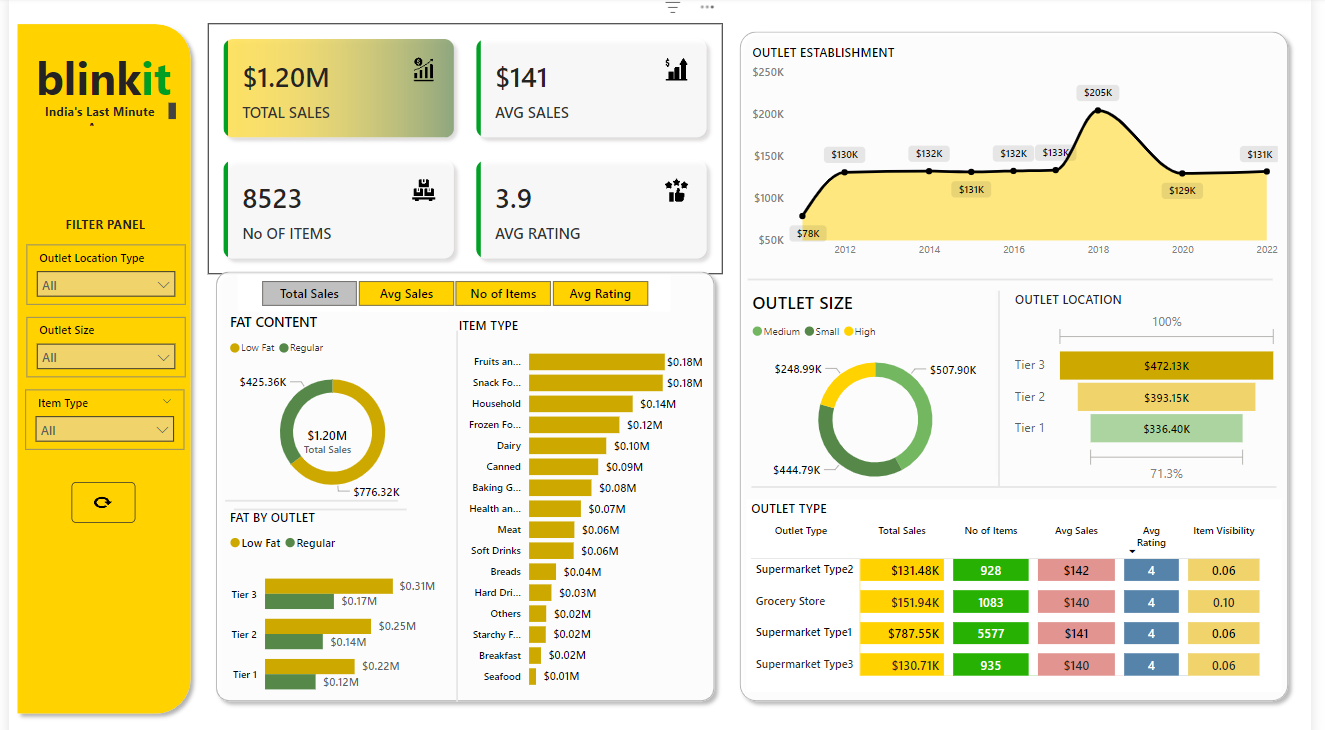

What the dashboard file says about the page in this screenshot:
{"tool":"powerbi","page":{"name":"Page 1","canvas":[1400,800],"ordinal":0},"visuals":[{"type":"shape","box":[0,20.2,204.4,759.9],"z":0},{"type":"textbox","box":[18.8,48.4,165.4,78],"z":1000},{"type":"textbox","box":[18.8,108.9,165.4,35],"z":2000},{"type":"cardVisual","fields":{"Data":["BlinkIT Grocery Data.Total Sales","BlinkIT Grocery Data.Avg Sales","BlinkIT Grocery Data.No of Items","BlinkIT Grocery Data.Avg Rating"]},"box":[213.9,28.2,554.1,270.3],"z":3000},{"type":"shape","box":[213.9,286.5,554.1,480.2],"z":4000},{"type":"donutChart","title":"FAT CONTENT","fields":{"Y":["BlinkIT Grocery Data.Total Sales"],"Category":["BlinkIT Grocery Data.Item Fat Content"]},"box":[232.7,338.9,231.3,211.2],"z":5000},{"type":"slicer","fields":{"Values":["Metrics.Metrics"]},"box":[246.1,298.6,465.4,40.3],"z":6000},{"type":"cardVisual","fields":{"Data":["BlinkIT Grocery Data.Total Sales"]},"box":[298.6,445.2,88.8,52.5],"z":7000},{"type":"clusteredBarChart","title":"FAT BY OUTLET","fields":{"Y":["BlinkIT Grocery Data.Total Sales"],"Category":["BlinkIT Grocery Data.Outlet Location Type"],"Series":["BlinkIT Grocery Data.Item Fat Content"]},"box":[232.7,550.1,231.3,219.2],"z":8000},{"type":"shape","box":[232.7,527.2,185.6,29.6],"z":9000},{"type":"shape","box":[242.7,537.2,185.6,29.6],"z":10000},{"type":"shape","box":[1055.8,316.1,13.4,199.1],"z":11000},{"type":"barChart","title":"ITEM TYPE","fields":{"Y":["BlinkIT Grocery Data.Total Sales"],"Category":["BlinkIT Grocery Data.Item Type"]},"box":[478.8,344.3,273,410.2],"z":12000},{"type":"shape","box":[777.4,28.2,607.9,738.4],"z":13000},{"type":"lineChart","title":"OUTLET ESTABLISHMENT","fields":{"Category":["BlinkIT Grocery Data.Outlet Establishment Year"],"Y":["BlinkIT Grocery Data.Total Sales"]},"box":[794.9,49.8,575.7,239.4],"z":14000},{"type":"shape","box":[794.9,289.2,564.9,29.6],"z":15000},{"type":"donutChart","title":"OUTLET SIZE","fields":{"Y":["BlinkIT Grocery Data.Total Sales"],"Category":["BlinkIT Grocery Data.Outlet Size"]},"box":[794.9,316.1,275,225],"z":16000},{"type":"shape","box":[474.8,359.1,14.8,399.5],"z":17000},{"type":"shape","box":[1061.2,316.1,8.1,211.2],"z":18000},{"type":"funnel","title":"OUTLET LOCATION","fields":{"Y":["BlinkIT Grocery Data.Total Sales"],"Category":["BlinkIT Grocery Data.Outlet Location Type"]},"box":[1077.3,316.1,293.2,211.2],"z":19000},{"type":"shape","box":[798.9,512.4,564.9,29.6],"z":20000},{"type":"pivotTable","title":"OUTLET TYPE","fields":{"Rows":["BlinkIT Grocery Data.Outlet Type"],"Values":["BlinkIT Grocery Data.Total Sales","BlinkIT Grocery Data.No of Items","BlinkIT Grocery Data.Avg Sales","BlinkIT Grocery Data.Avg Rating","Avg(BlinkIT Grocery Data.Item Visibility)"]},"box":[793.5,540.7,575.7,207.1],"z":21000},{"type":"slicer","fields":{"Values":["BlinkIT Grocery Data.Outlet Location Type"]},"box":[18.8,266.3,170.8,64.6],"z":22000},{"type":"slicer","fields":{"Values":["BlinkIT Grocery Data.Outlet Size"]},"box":[18.8,344.3,170.8,64.6],"z":23000},{"type":"slicer","fields":{"Values":["BlinkIT Grocery Data.Item Type"]},"box":[17.5,422.3,170.8,64.6],"z":24000},{"type":"shape","title":"FILTER PANEL","box":[25.6,235.4,156,21.5],"z":24001},{"type":"image","box":[67.2,521.9,68.6,44.4],"z":24003}]}

Visuals, with their boxes on the page's 1400x800 design canvas (x1, y1, x2, y2). These are canvas units, not pixel positions in the 1325x730 screenshot, which may show the page scaled, cropped or inside an application window:
shape: crop(0, 20, 204, 780)
textbox: crop(19, 48, 184, 126)
textbox: crop(19, 109, 184, 144)
cardVisual - BlinkIT Grocery Data.Total Sales x BlinkIT Grocery Data.Avg Sales: crop(214, 28, 768, 298)
shape: crop(214, 286, 768, 767)
"FAT CONTENT" donutChart: crop(233, 339, 464, 550)
slicer - Metrics.Metrics: crop(246, 299, 712, 339)
cardVisual - BlinkIT Grocery Data.Total Sales: crop(299, 445, 387, 498)
"FAT BY OUTLET" clusteredBarChart: crop(233, 550, 464, 769)
shape: crop(233, 527, 418, 557)
shape: crop(243, 537, 428, 567)
shape: crop(1056, 316, 1069, 515)
"ITEM TYPE" barChart: crop(479, 344, 752, 754)
shape: crop(777, 28, 1385, 767)
"OUTLET ESTABLISHMENT" lineChart: crop(795, 50, 1371, 289)
shape: crop(795, 289, 1360, 319)
"OUTLET SIZE" donutChart: crop(795, 316, 1070, 541)
shape: crop(475, 359, 490, 759)
shape: crop(1061, 316, 1069, 527)
"OUTLET LOCATION" funnel: crop(1077, 316, 1370, 527)
shape: crop(799, 512, 1364, 542)
"OUTLET TYPE" pivotTable: crop(794, 541, 1369, 748)
slicer - BlinkIT Grocery Data.Outlet Location Type: crop(19, 266, 190, 331)
slicer - BlinkIT Grocery Data.Outlet Size: crop(19, 344, 190, 409)
slicer - BlinkIT Grocery Data.Item Type: crop(18, 422, 188, 487)
"FILTER PANEL" shape: crop(26, 235, 182, 257)
image: crop(67, 522, 136, 566)
